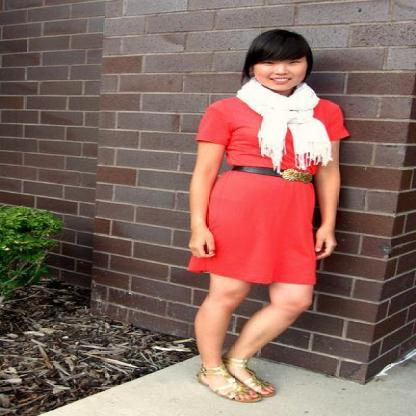dress: (188, 96, 349, 285)
shoe: (222, 381, 260, 402)
